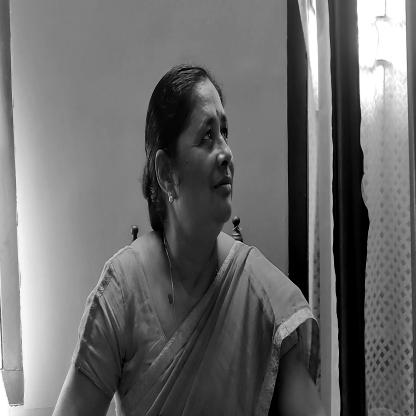Distracted: (149, 72, 239, 246)
